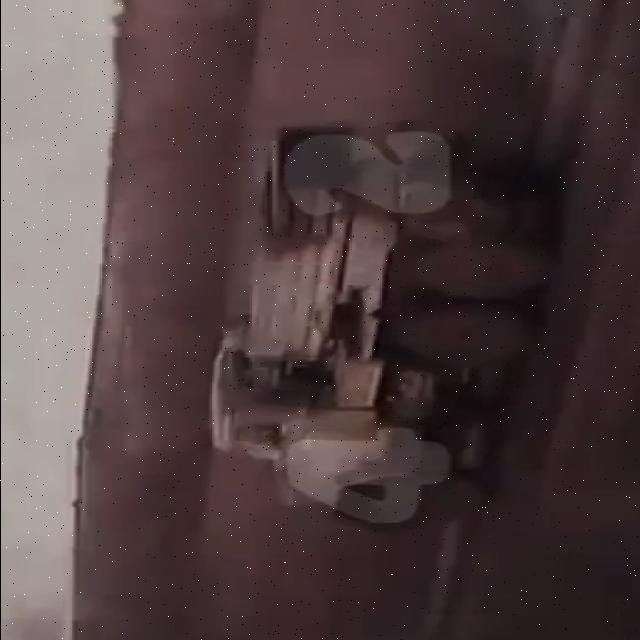MLRS: (197, 120, 559, 515)
